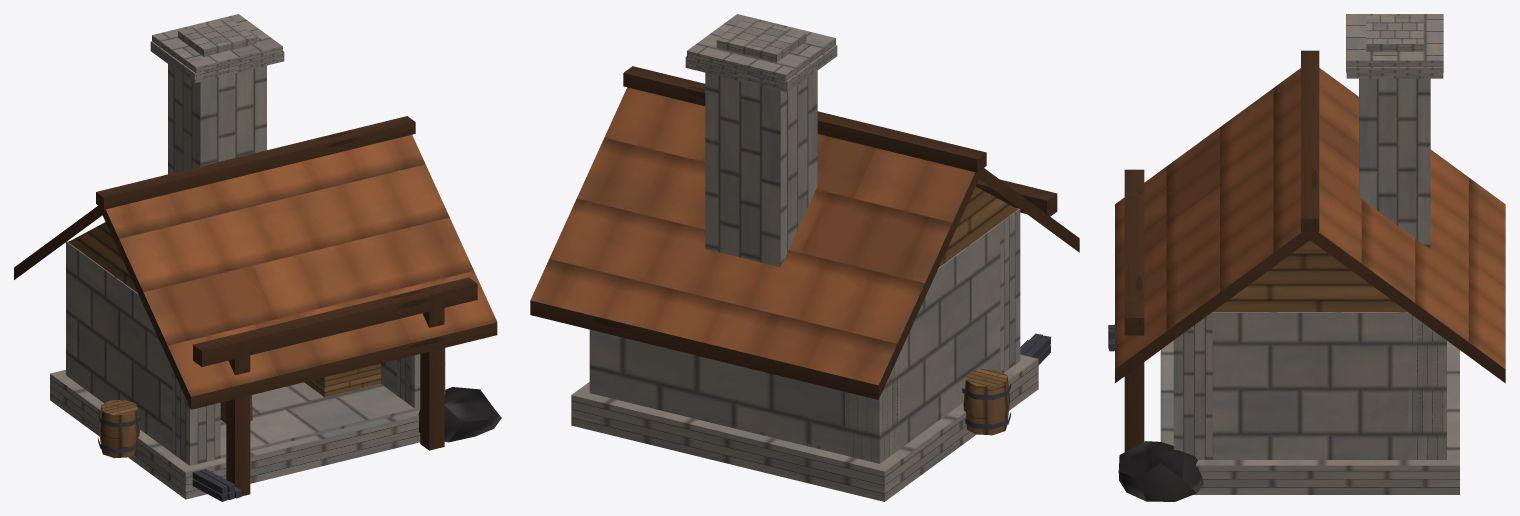
The model's file is forge.glb.
The picture shows the model from 3 angles, left to right: view 1: azimuth 30°, elevation 25°; view 2: azimuth 150°, elevation 25°; view 3: azimuth 270°, elevation 25°; orthographic projection. The views are drawn at different scales.
Visible parts, largest first — view 1: forge; view 2: forge; view 3: forge.
Part boxes in pixels (x1,y1,x2,y2): forge: [14, 14, 501, 501]; forge: [530, 14, 1079, 501]; forge: [1108, 14, 1505, 501].
Bounding box in the file's own units: 6.65 × 6.63 × 6.1.
Materials: 4 (4 with a texture image).
